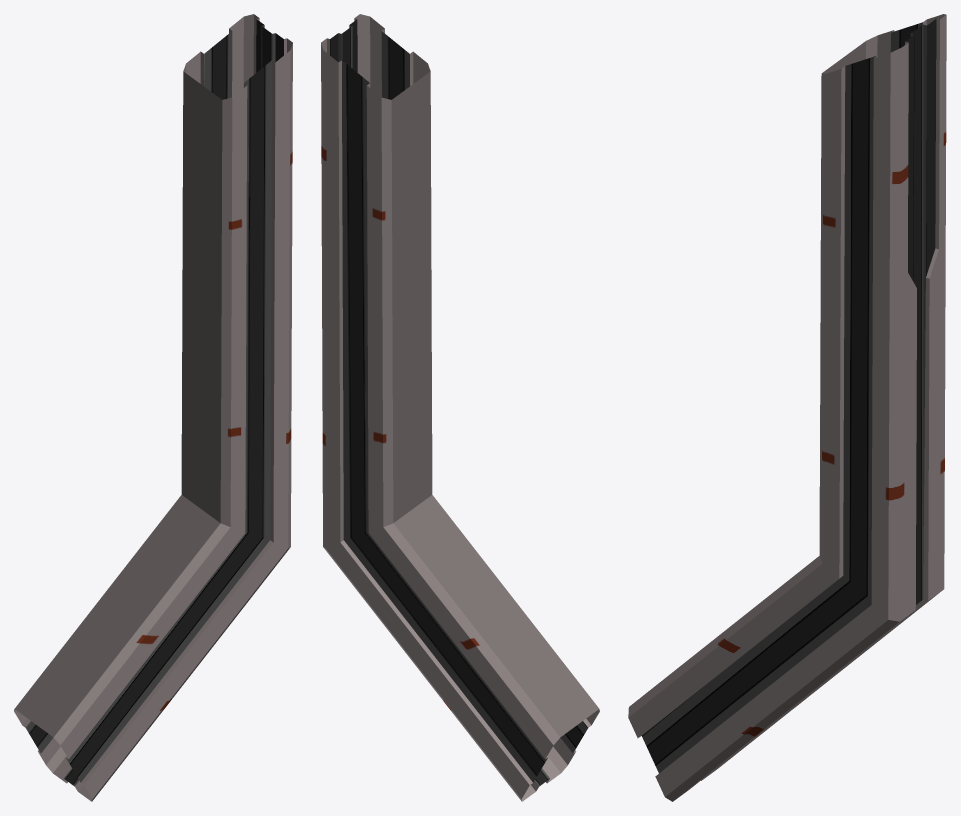
Rendered from Pillar_02.fbx.
The picture shows the model from 3 angles, left to right: view 1: azimuth 30°, elevation 25°; view 2: azimuth 150°, elevation 25°; view 3: azimuth 330°, elevation 25°; orthographic projection. The views are drawn at different scales.
Parts seen in each view (by area): view 1: Room_Beam_01; view 2: Room_Beam_01; view 3: Room_Beam_01.
Part boxes in pixels (x1,y1,x2,y2): Room_Beam_01: [14, 14, 292, 801]; Room_Beam_01: [321, 14, 599, 801]; Room_Beam_01: [628, 14, 946, 801].
Size of the model in its own units: 298 by 845 by 100.
1 material, 1 textured.
